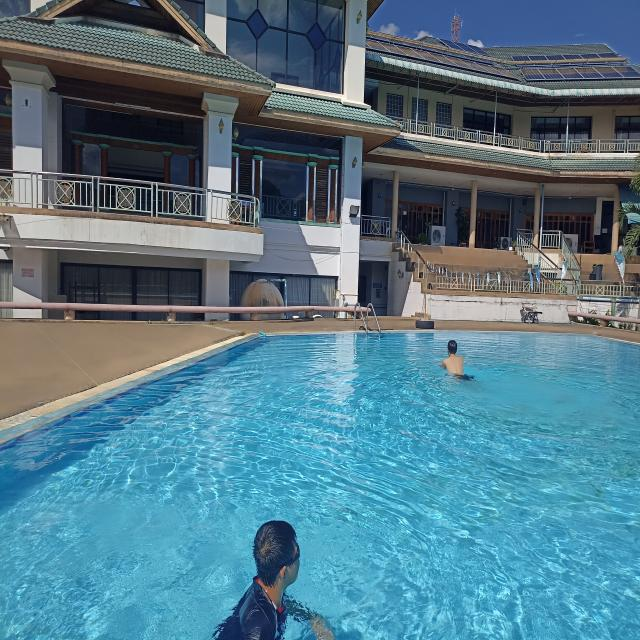Swimming: (212, 520, 340, 640), (438, 334, 474, 390)
